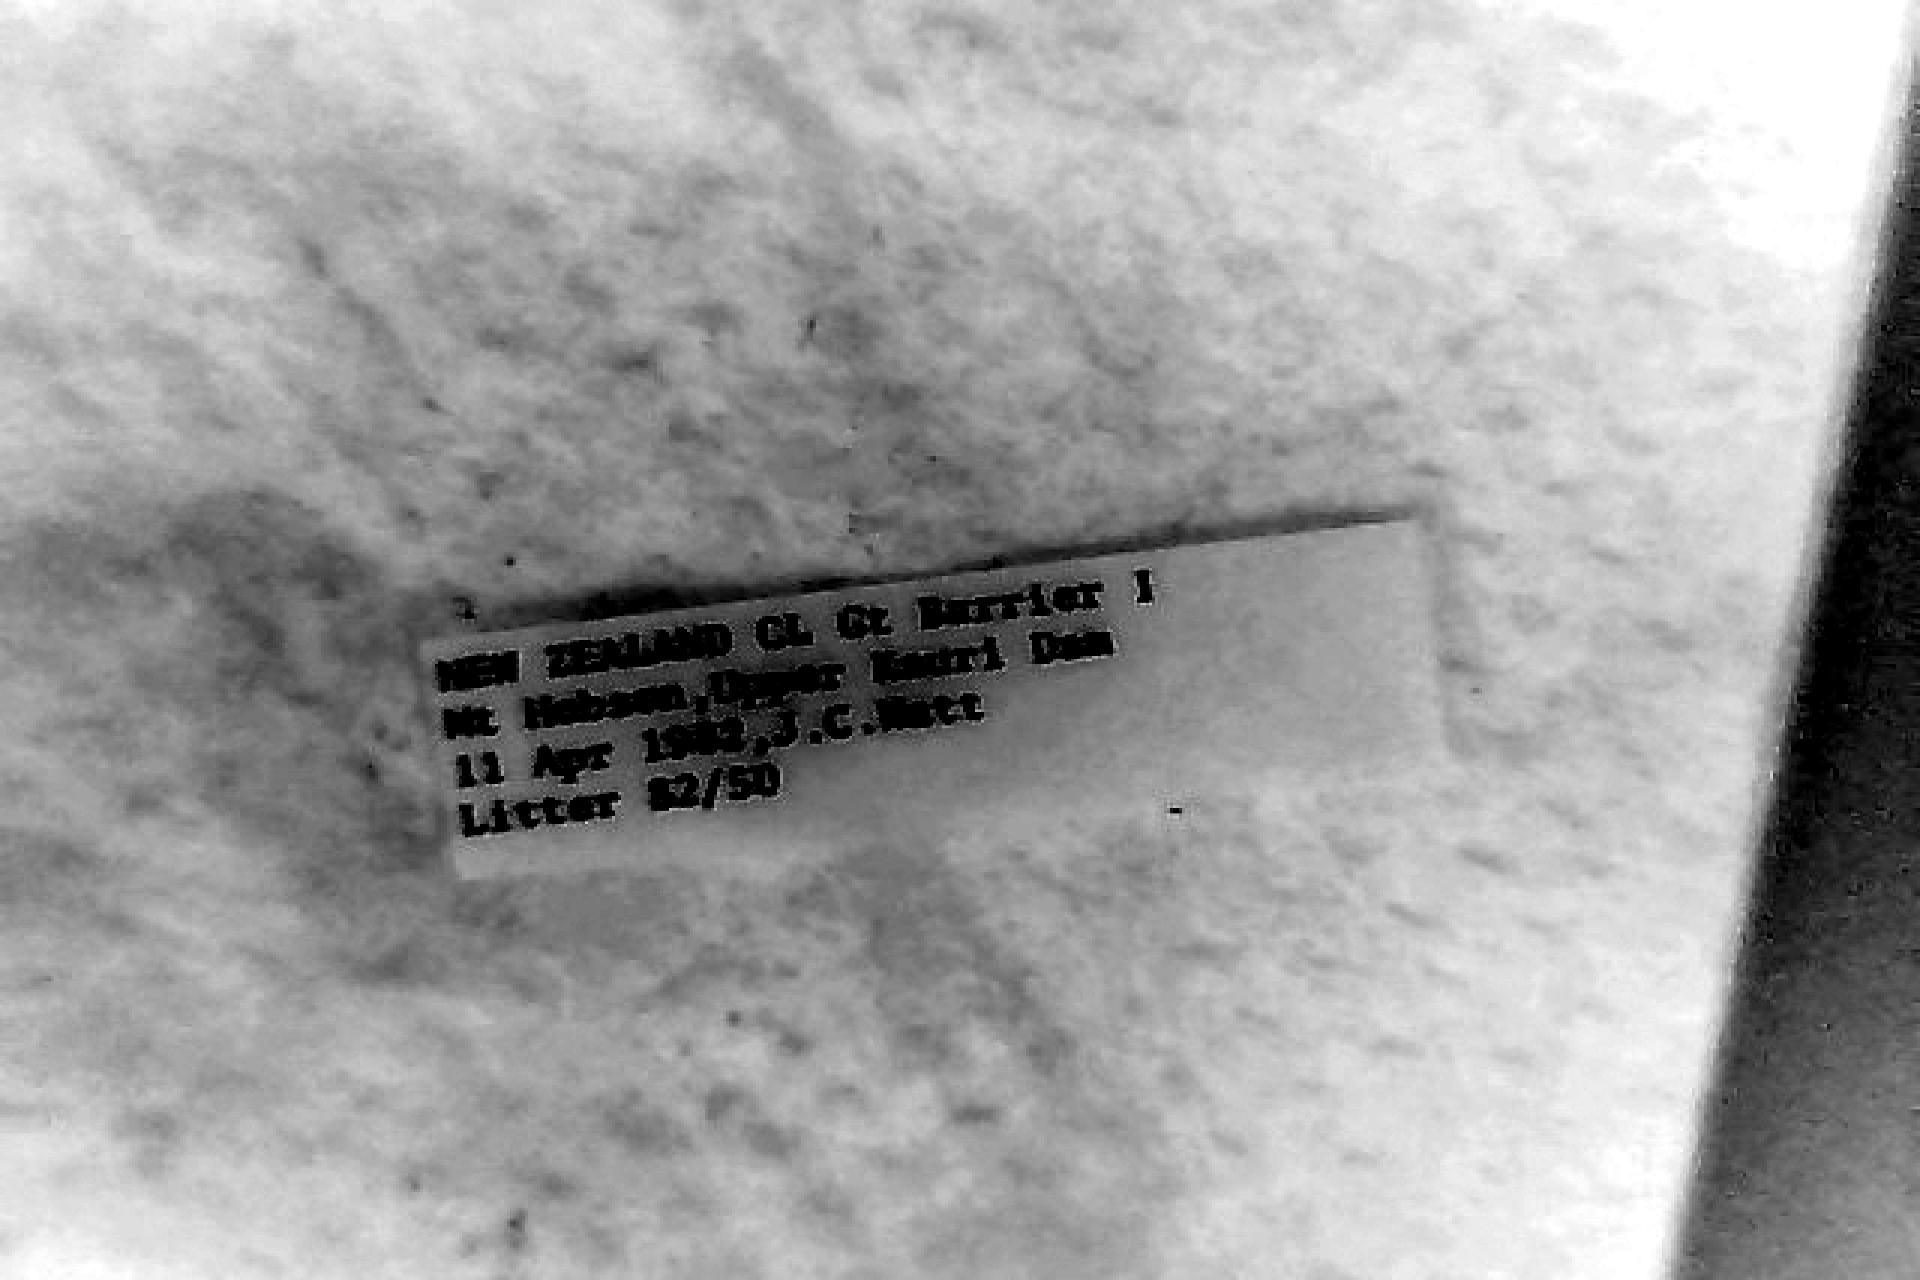hand_label: (424, 523, 1436, 877)
